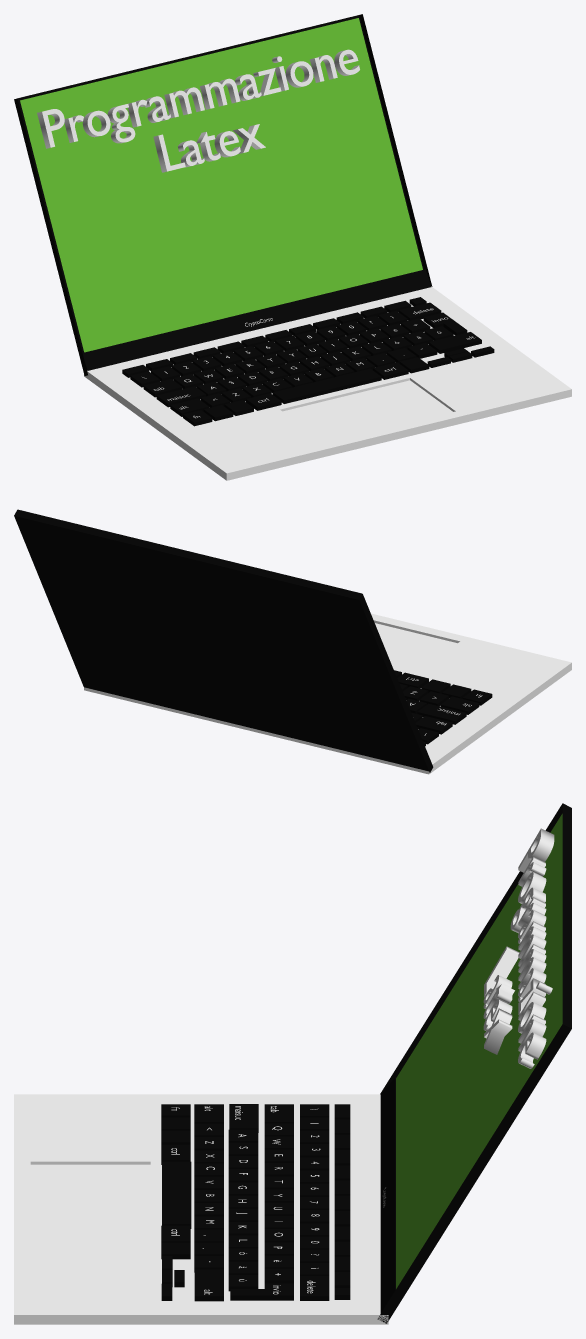
File: latex.glb
The picture shows the model from 3 angles, top to bottom: view 1: azimuth 30°, elevation 25°; view 2: azimuth 150°, elevation 25°; view 3: azimuth 270°, elevation 25°; orthographic projection. The views are drawn at different scales.
Parts seen in each view (by area): view 1: Cube.073, Cube, Text, Cube.074, Cube.001, Text.001, Cube.072, Cube.123; view 2: Cube.001, Cube, Cube.065, Cube.064, Cube.066, Cube.071; view 3: Cube, Cube.073, Cube.001, Text, Cube.074, Text.001, Cube.072, Cube.123, Cube.065, Cube.027.
Boxes of the visible parts, x1,y1,x2,y2 form: Cube.073: [20, 18, 422, 352]; Cube: [84, 286, 571, 480]; Text: [37, 49, 359, 148]; Cube.074: [82, 269, 431, 370]; Cube.001: [14, 14, 432, 375]; Text.001: [153, 124, 265, 172]; Cube.072: [272, 368, 381, 403]; Cube.123: [428, 332, 481, 353]; Cube.001: [14, 509, 433, 772]; Cube: [84, 613, 571, 774]; Cube.065: [417, 703, 466, 724]; Cube.064: [440, 696, 479, 714]; Cube.066: [415, 716, 452, 734]; Cube.071: [397, 672, 428, 688]; Cube: [14, 1094, 388, 1324]; Cube.073: [396, 813, 562, 1288]; Cube.001: [377, 803, 571, 1323]; Text: [510, 828, 554, 1068]; Cube.074: [380, 1077, 396, 1313]; Text.001: [483, 946, 519, 1054]; Cube.072: [162, 1161, 191, 1228]; Cube.123: [194, 1269, 223, 1301]; Cube.065: [229, 1104, 258, 1132]; Cube.027: [300, 1276, 329, 1300].
Size of the model in its own units: 6.79 by 4.31 by 7.25.
